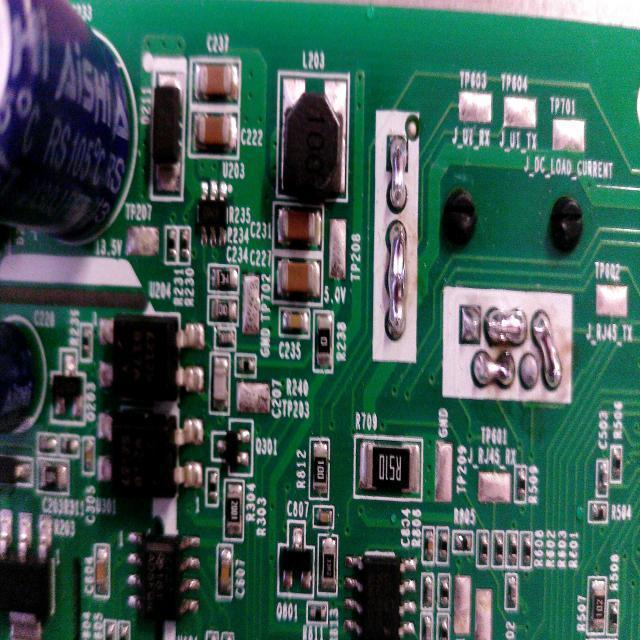Soldering shorted: (532, 303, 568, 398), (386, 215, 409, 346), (468, 348, 518, 392), (483, 301, 528, 349), (386, 132, 409, 214)
